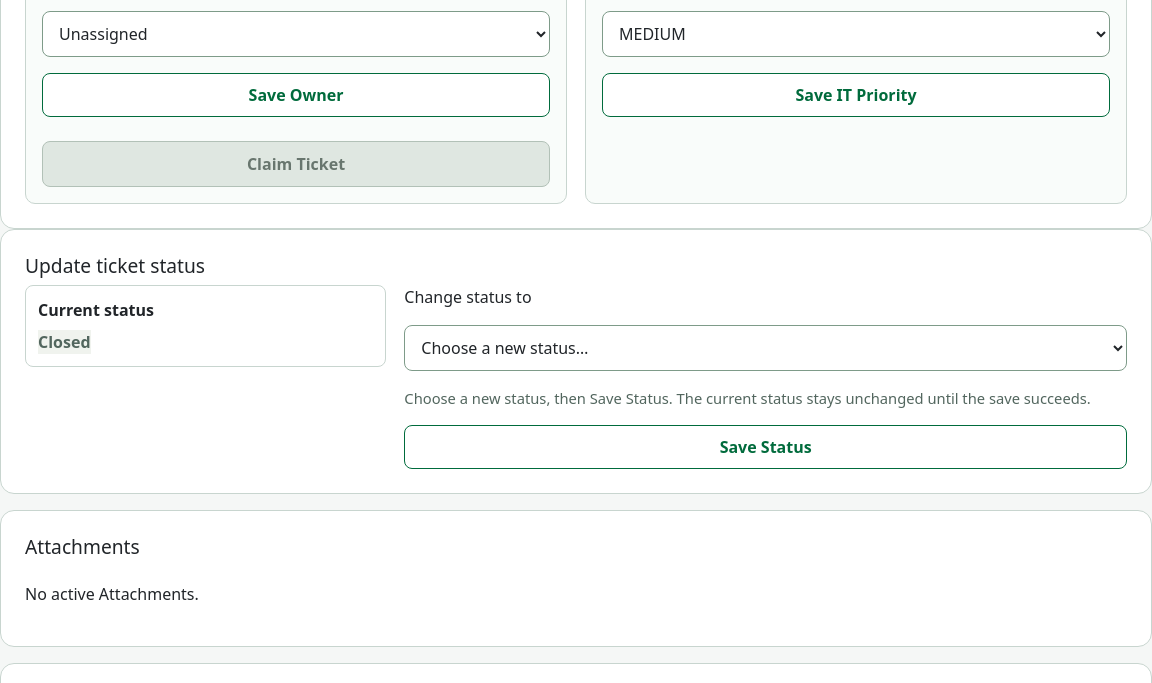
Test: reopening displays a new cycle with no inherited readiness or invented legacy resolved date
The width and height of the screenshot is (1152, 683).
(page scrolled)
Step 1. Select "Reopened" in the dropdown labelled "Change status to" → [766, 348], box [404, 325, 1127, 371]
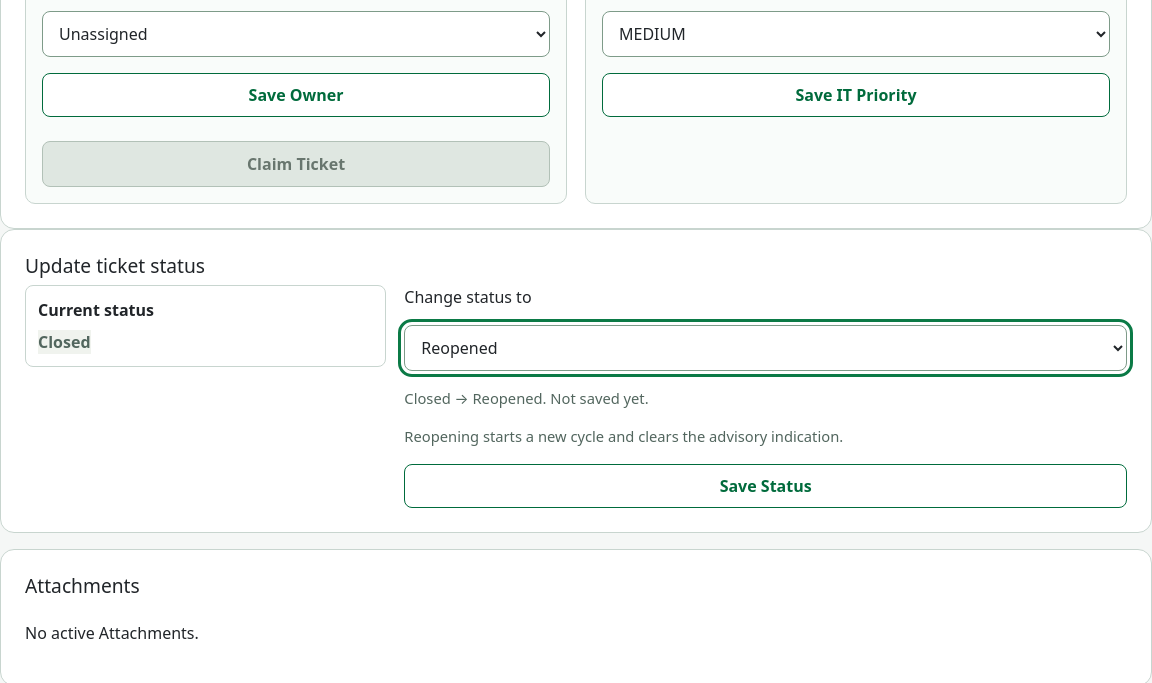
Step 2. Click the button "Save Status" → [766, 486], box [404, 464, 1127, 508]
(page scrolled)
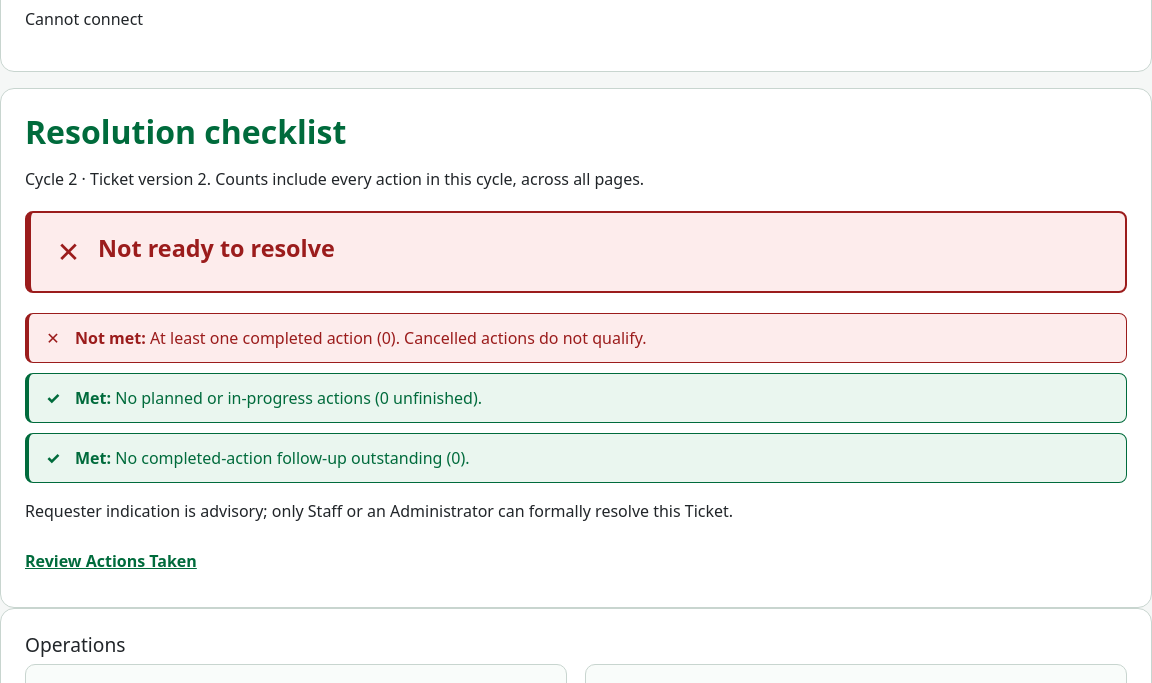
Result: the element "Resolution checklist" shows "Cycle 2"
